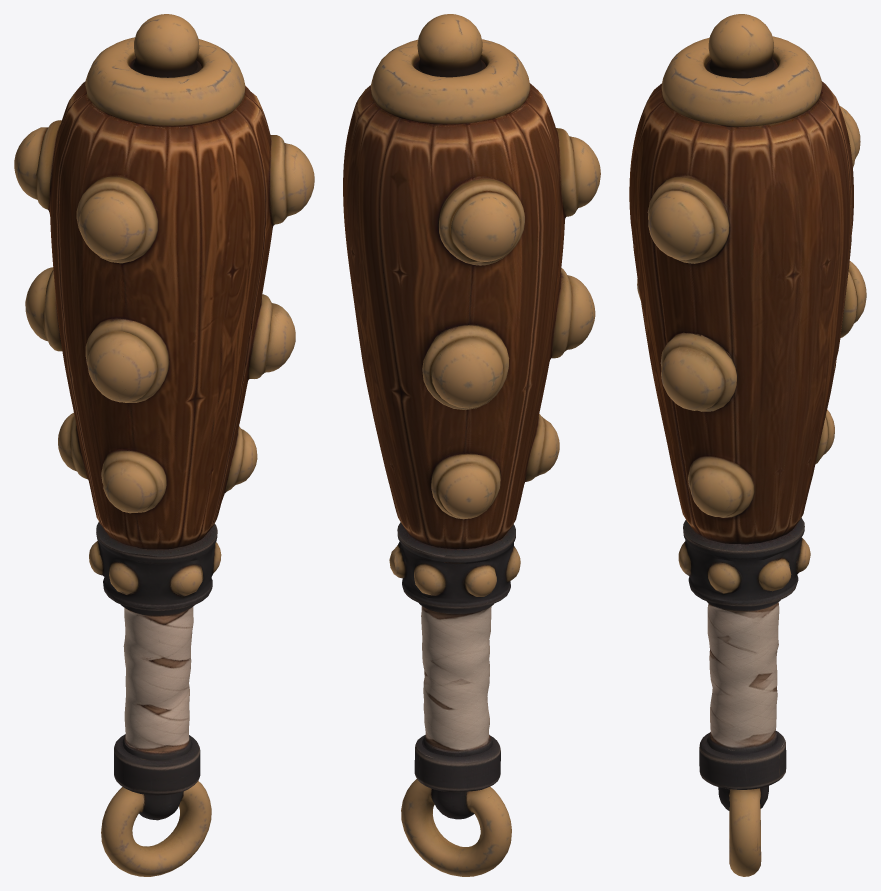
File: BrickWeapon.fbx
The picture shows the model from 3 angles, left to right: view 1: azimuth 30°, elevation 25°; view 2: azimuth 150°, elevation 25°; view 3: azimuth 270°, elevation 25°; orthographic projection.
Parts seen in each view (by area): view 1: Mesh0; view 2: Mesh0; view 3: Mesh0.
Boxes of the visible parts, left/top/right/bottom form: Mesh0: left=14, top=14, right=314, bottom=876; Mesh0: left=343, top=14, right=600, bottom=876; Mesh0: left=629, top=14, right=866, bottom=876.
Bounding box in the file's own units: 53.52 × 190 × 47.66.
1 material, 1 textured.
